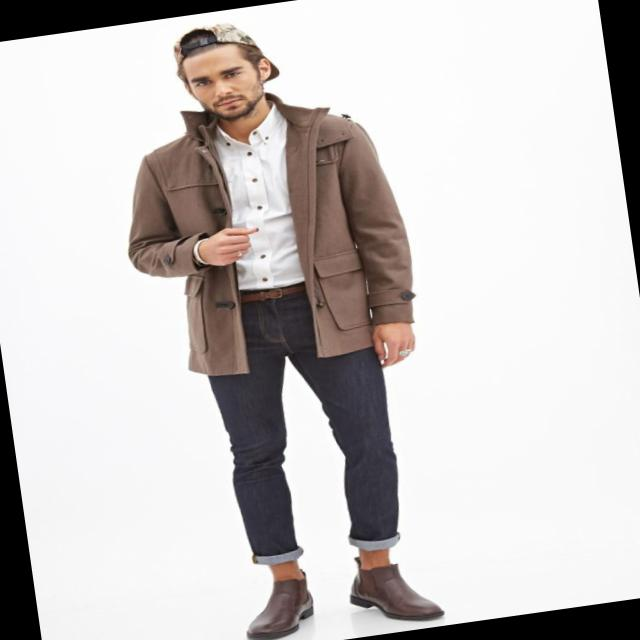Jacket: (113, 106, 423, 386)
